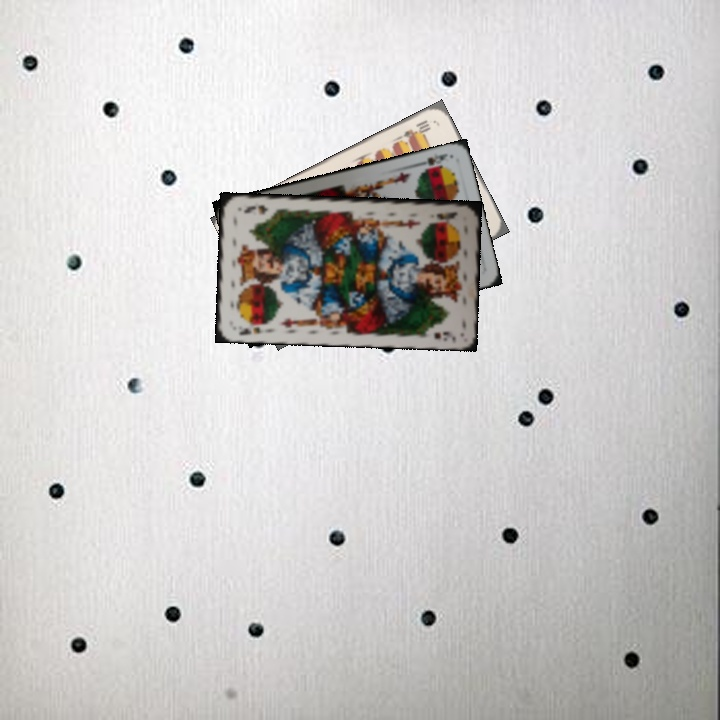E10: (399, 116, 433, 142)
SK: (413, 149, 450, 173), (235, 318, 272, 338), (433, 208, 460, 223)
